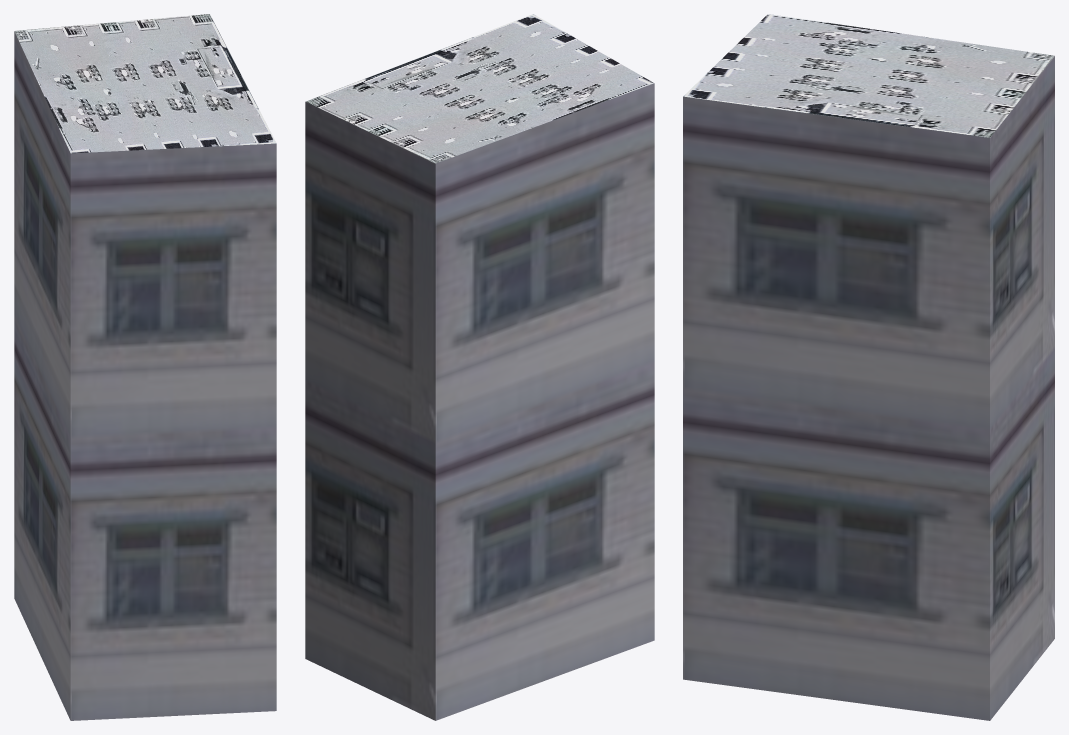
File: ResTex__905.fbx
3 views of the same model, side by side, from view 1: azimuth 30°, elevation 25°; view 2: azimuth 150°, elevation 25°; view 3: azimuth 270°, elevation 25° (orthographic). The views are drawn at different scales.
Parts seen in each view (by area): view 1: CityEngineMaterial_1_m, CityEngineMaterial_8_m; view 2: CityEngineMaterial_1_m, CityEngineMaterial_8_m; view 3: CityEngineMaterial_1_m, CityEngineMaterial_8_m.
Boxes of the visible parts, left/top/right/bottom form: CityEngineMaterial_1_m: left=14, top=31, right=276, bottom=720; CityEngineMaterial_8_m: left=14, top=14, right=276, bottom=153; CityEngineMaterial_1_m: left=305, top=83, right=654, bottom=720; CityEngineMaterial_8_m: left=306, top=14, right=653, bottom=163; CityEngineMaterial_1_m: left=683, top=56, right=1054, bottom=720; CityEngineMaterial_8_m: left=683, top=14, right=1054, bottom=137.
Bounding box in the file's own units: 2.74 × 6 × 3.47.
Materials: 2 (2 with a texture image).
